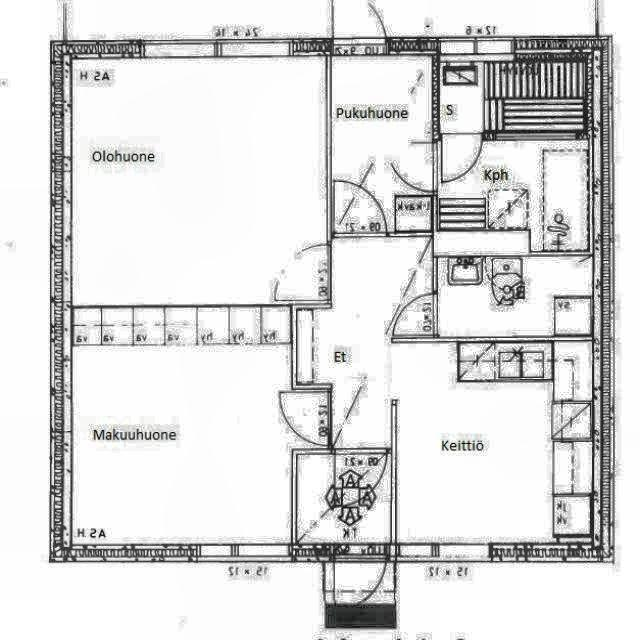room: (296, 237, 593, 545), (70, 56, 328, 306), (71, 306, 328, 545), (438, 53, 593, 251), (331, 55, 432, 234), (437, 256, 593, 337), (297, 453, 392, 544)
